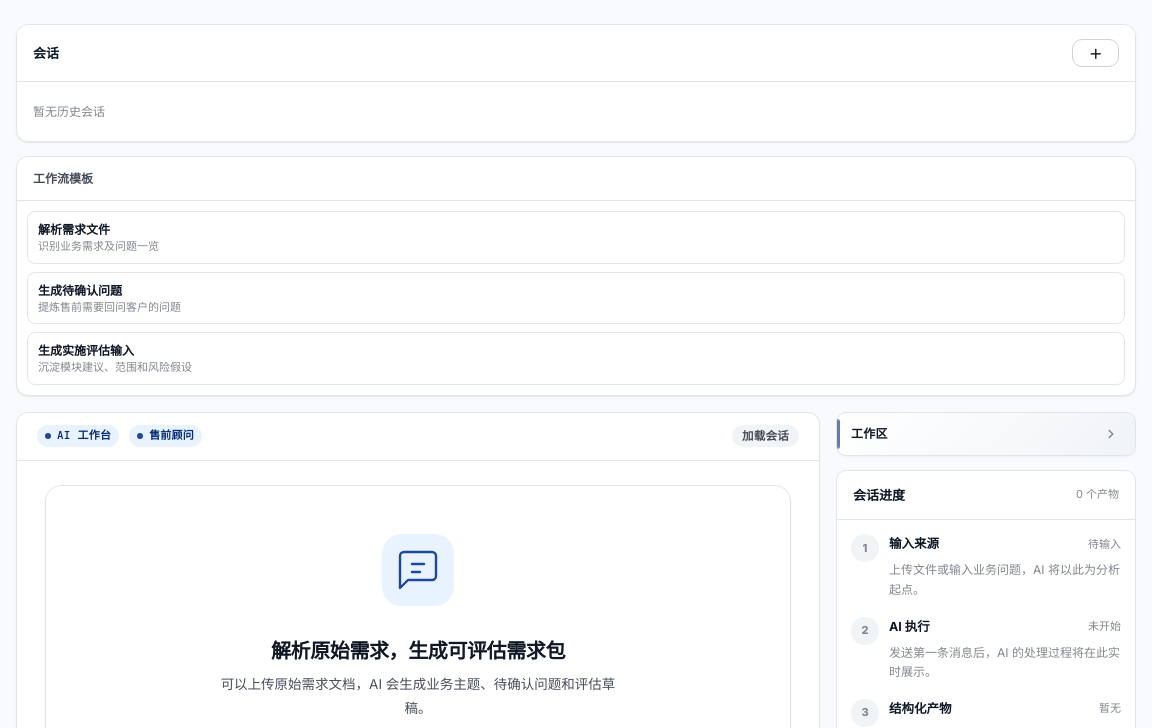
Test: AiHomeWorkbench › selected workflow reshapes the central empty state and composer context
Click the button "生成待确认问题 提炼售前需要回问客户的问题": [80, 290] box [27,272,1125,324]
(page scrolled)
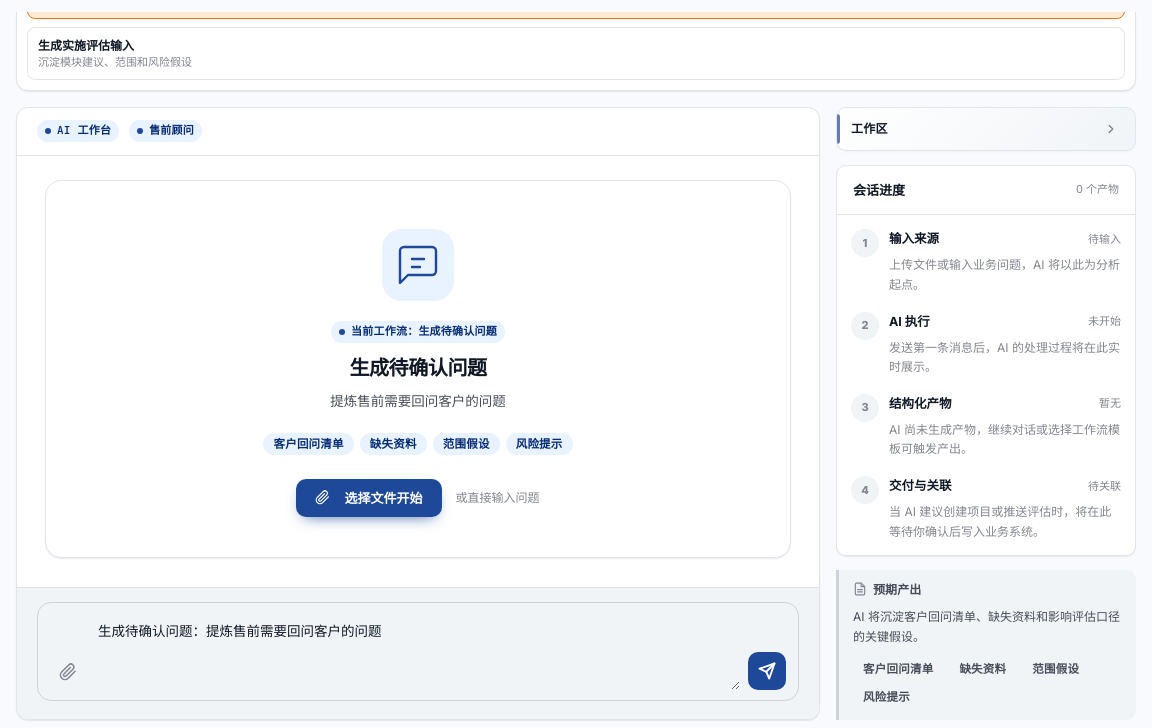
Now the heading "生成待确认问题" is shown, box [349,354,487,380]
Now the text "当前工作流：生成待确认问题" is shown, box [331,320,505,342]
Now the text "客户回问清单" below "提炼售前需要回问客户的问题" is shown, box [273,436,344,451]
